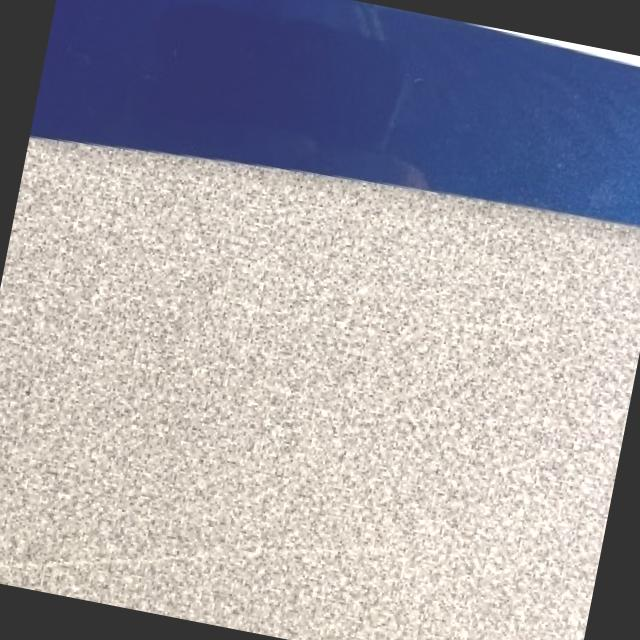healthy: (0, 0, 640, 640), (30, 0, 640, 224)
